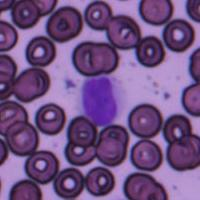L: (76, 72, 125, 127)
